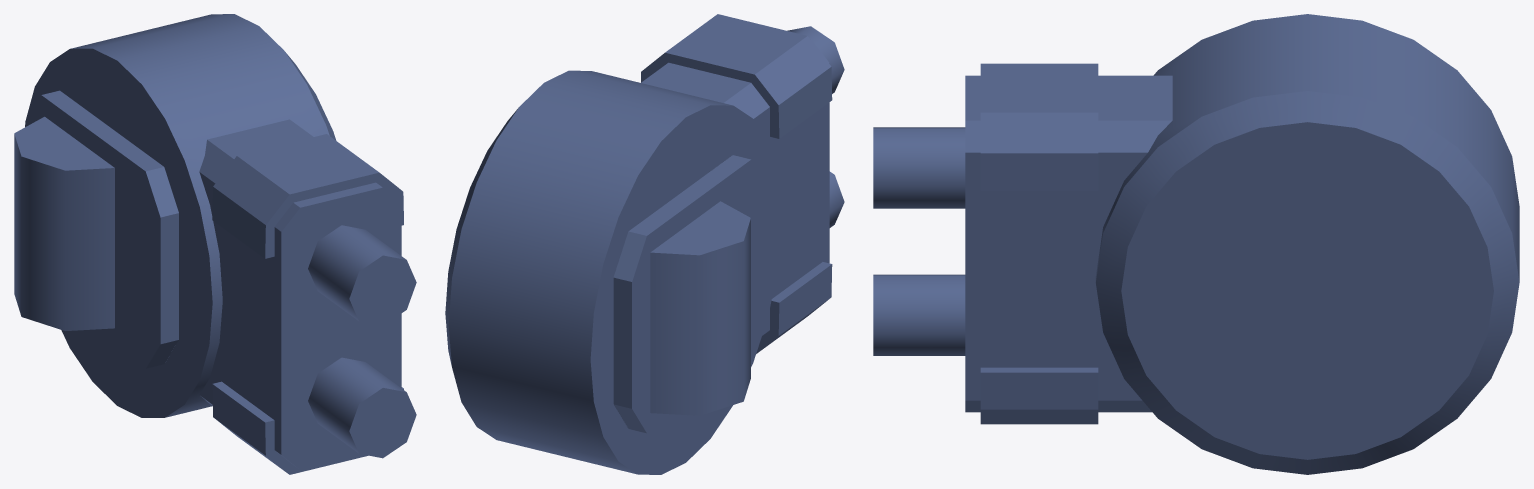
File: Small_guns_v1_L.FBX
3 views of the same model, side by side, from view 1: azimuth 30°, elevation 25°; view 2: azimuth 150°, elevation 25°; view 3: azimuth 270°, elevation 25° (orthographic). The views are drawn at different scales.
Parts seen in each view (by area): view 1: Small_guns_v1_L; view 2: Small_guns_v1_L; view 3: Small_guns_v1_L.
Part boxes in pixels (x1,y1,x2,y2): Small_guns_v1_L: (14, 14, 416, 474); Small_guns_v1_L: (445, 14, 844, 474); Small_guns_v1_L: (873, 14, 1519, 474).
Bounding box in the file's own units: 0.6221 × 0.8792 × 1.34.
